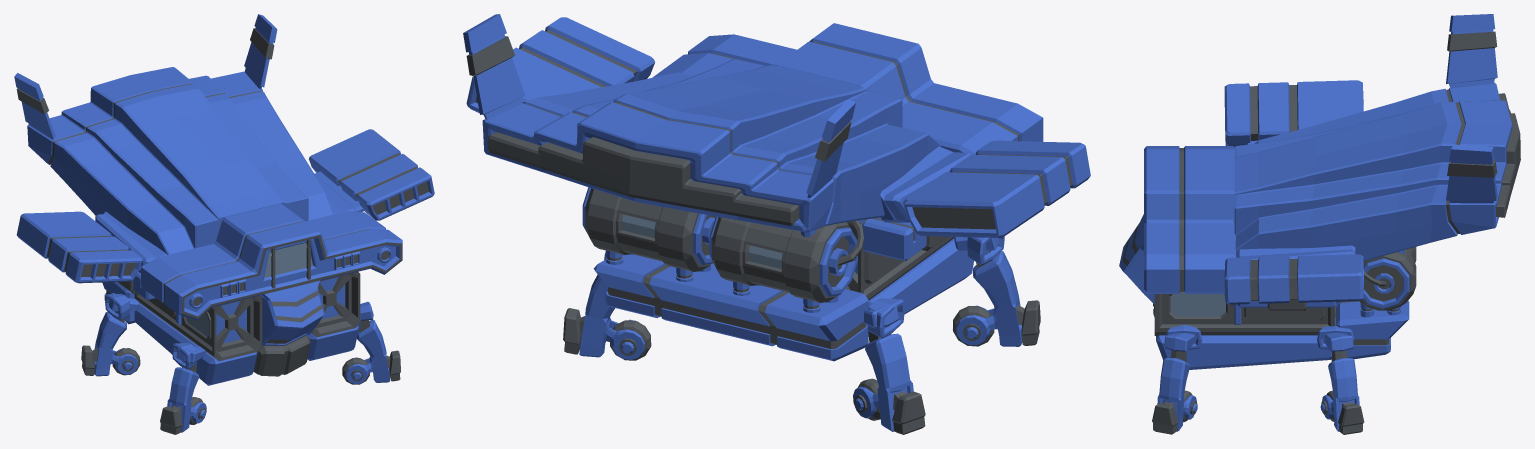
File: Dropship_01_Blue.fbx
3 renders of one model, left to right at view 1: azimuth 30°, elevation 25°; view 2: azimuth 150°, elevation 25°; view 3: azimuth 270°, elevation 25°, orthographic. The views are drawn at different scales.
Parts seen in each view (by area): view 1: Dropship_01_Blue; view 2: Dropship_01_Blue; view 3: Dropship_01_Blue.
Boxes of the visible parts, box(x1,y1,x2,y2) form: Dropship_01_Blue: box(14, 14, 434, 434); Dropship_01_Blue: box(463, 14, 1090, 434); Dropship_01_Blue: box(1119, 14, 1520, 434).
Size of the model in its own units: 1915 by 1326 by 1633.
3 materials, 3 textured.
